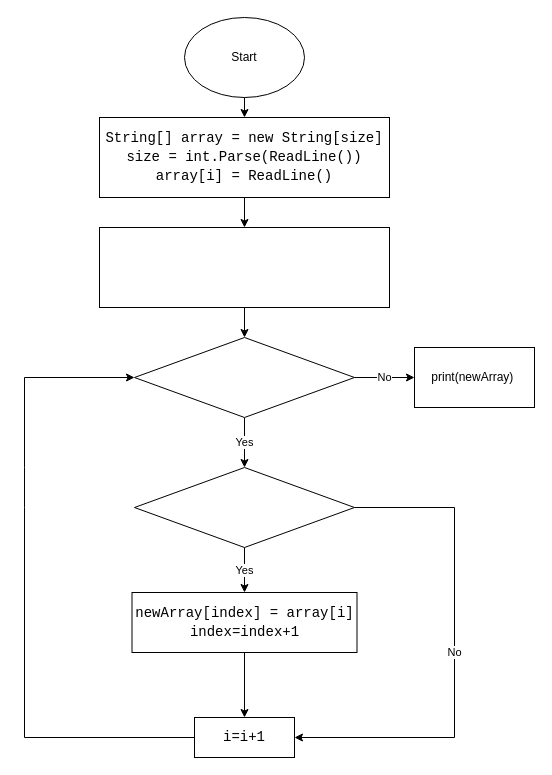
Image size: 552x775. Some labels were removed from this diagram. The box of each missing label's shape, as (x1, y1, x2, y2) in pixels:
array[i].Length <= 3: (134, 466, 354, 548)
i < size: (134, 336, 354, 418)
String[] newArray = new String[size] index = 0 i = 0: (98, 226, 390, 308)
